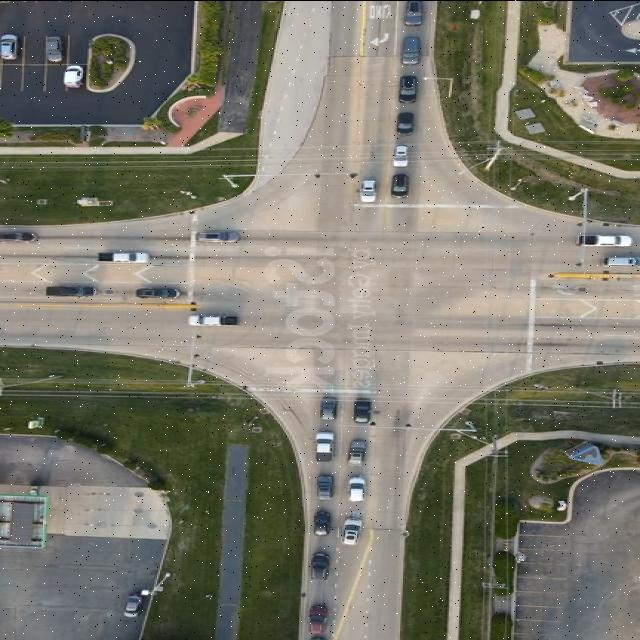car: (47, 284, 99, 296), (98, 251, 150, 263), (402, 36, 422, 64), (400, 74, 420, 102), (316, 433, 336, 461), (194, 234, 237, 247), (344, 517, 364, 543), (312, 552, 332, 578), (405, 0, 425, 24), (354, 398, 373, 422), (138, 287, 182, 297), (64, 64, 84, 86), (198, 232, 242, 242), (396, 110, 415, 133), (349, 477, 367, 501), (317, 475, 335, 499), (0, 34, 18, 58), (314, 512, 332, 536), (0, 230, 36, 242), (350, 441, 368, 464), (360, 178, 378, 201), (320, 398, 338, 420), (392, 173, 409, 195), (393, 143, 409, 165), (608, 254, 640, 264)
pickup-truck: (580, 234, 634, 246)
